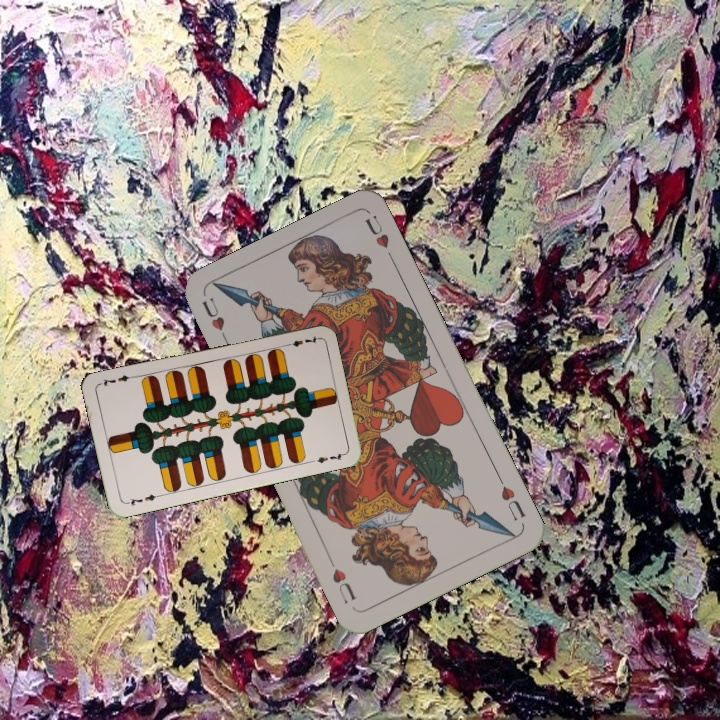E7: (122, 490, 162, 508), (280, 332, 320, 350)
HU: (197, 293, 232, 349), (493, 472, 529, 524)
